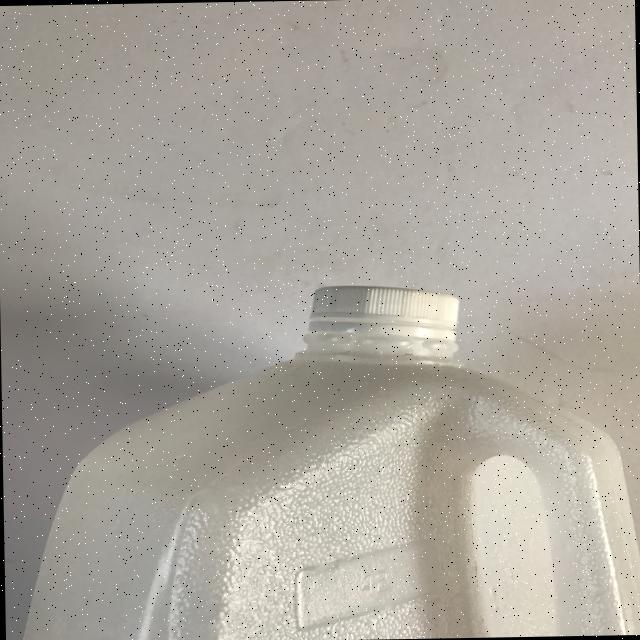plastic: (14, 278, 640, 640)
